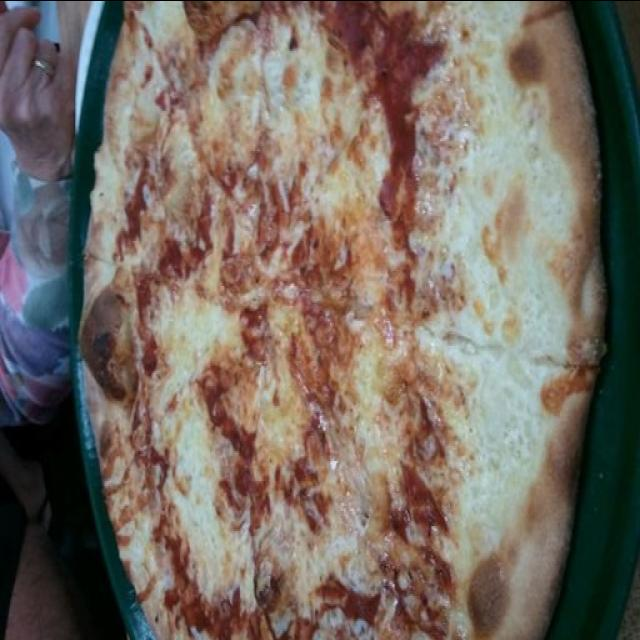pizza: (78, 0, 606, 640)
